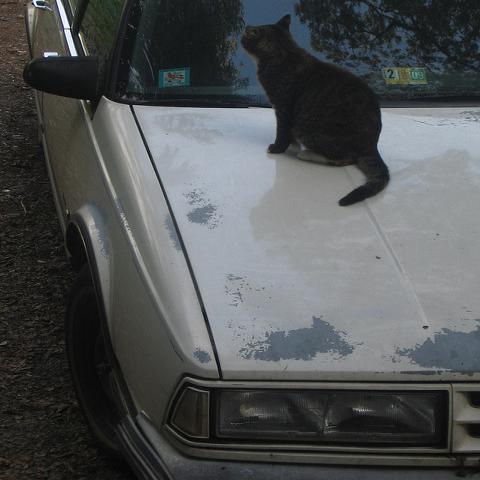car: (22, 1, 478, 475)
